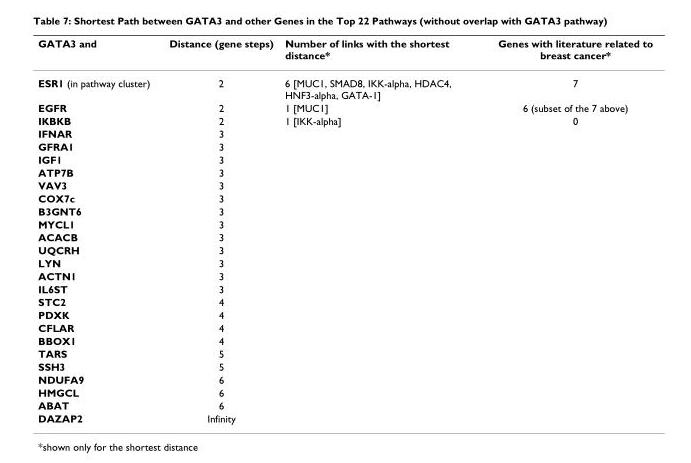table: (37, 36, 652, 423)
table column: (278, 36, 473, 423), (473, 36, 652, 423), (37, 36, 158, 423), (158, 36, 278, 423)
table column header: (37, 36, 652, 68)
table row: (37, 36, 652, 68), (37, 68, 652, 100), (37, 100, 652, 113), (37, 113, 652, 126), (37, 126, 652, 139), (37, 139, 652, 152), (37, 152, 652, 165), (37, 165, 652, 178), (37, 178, 652, 191), (37, 191, 652, 204), (37, 204, 652, 217), (37, 217, 652, 230), (37, 230, 652, 243), (37, 243, 652, 256), (37, 256, 652, 269), (37, 269, 652, 282), (37, 282, 652, 295), (37, 307, 652, 320), (37, 320, 652, 333), (37, 333, 652, 346), (37, 346, 652, 359), (37, 359, 652, 372), (37, 372, 652, 385), (37, 385, 652, 398), (37, 398, 652, 411), (37, 295, 652, 307), (37, 411, 652, 423)
